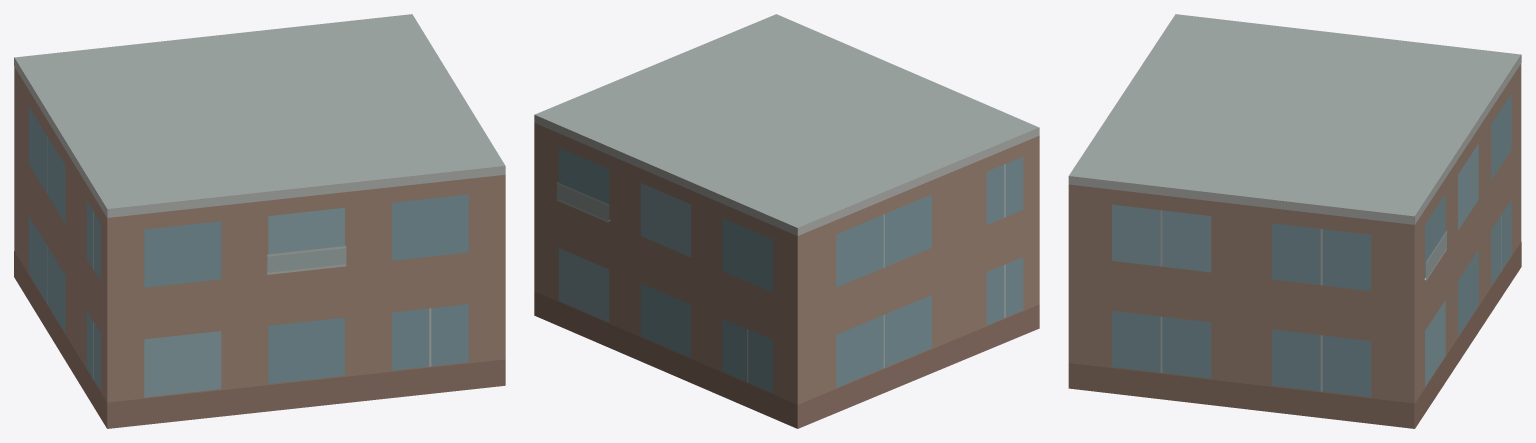
The model's file is survey-upis-32997134.glb.
3 views of the same model, side by side, from view 1: azimuth 30°, elevation 25°; view 2: azimuth 150°, elevation 25°; view 3: azimuth 270°, elevation 25° (orthographic). The views are drawn at different scales.
Parts seen in each view (by area): view 1: survey-upis-32997134.tmp; view 2: survey-upis-32997134.tmp; view 3: survey-upis-32997134.tmp.
Part boxes in pixels (box(x1,y1,x2,y2)): survey-upis-32997134.tmp: box(14, 14, 505, 428); survey-upis-32997134.tmp: box(534, 14, 1039, 428); survey-upis-32997134.tmp: box(1068, 14, 1521, 428).
Bounding box in the file's own units: 12.47 × 6.1 × 11.79.
